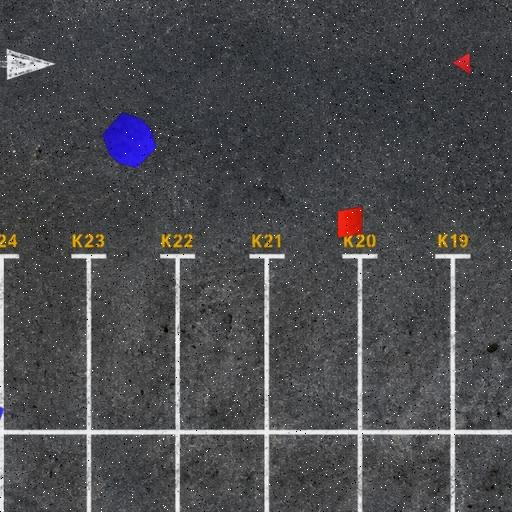RED_SQUARE: (337, 206, 364, 239)
